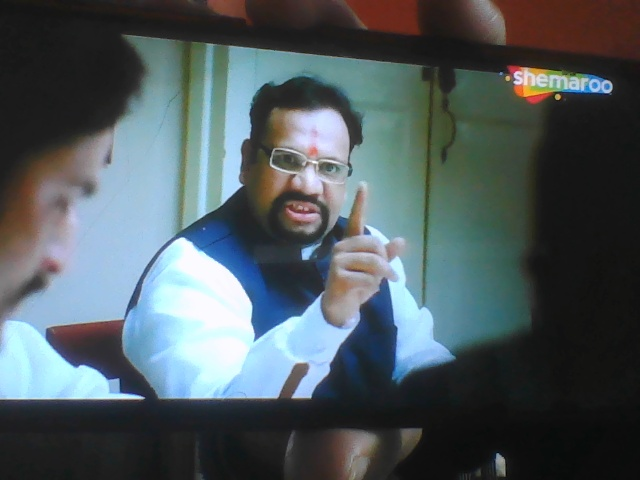fake: (230, 68, 365, 260)
